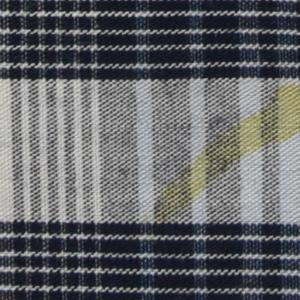Stain: (154, 81, 300, 225)
